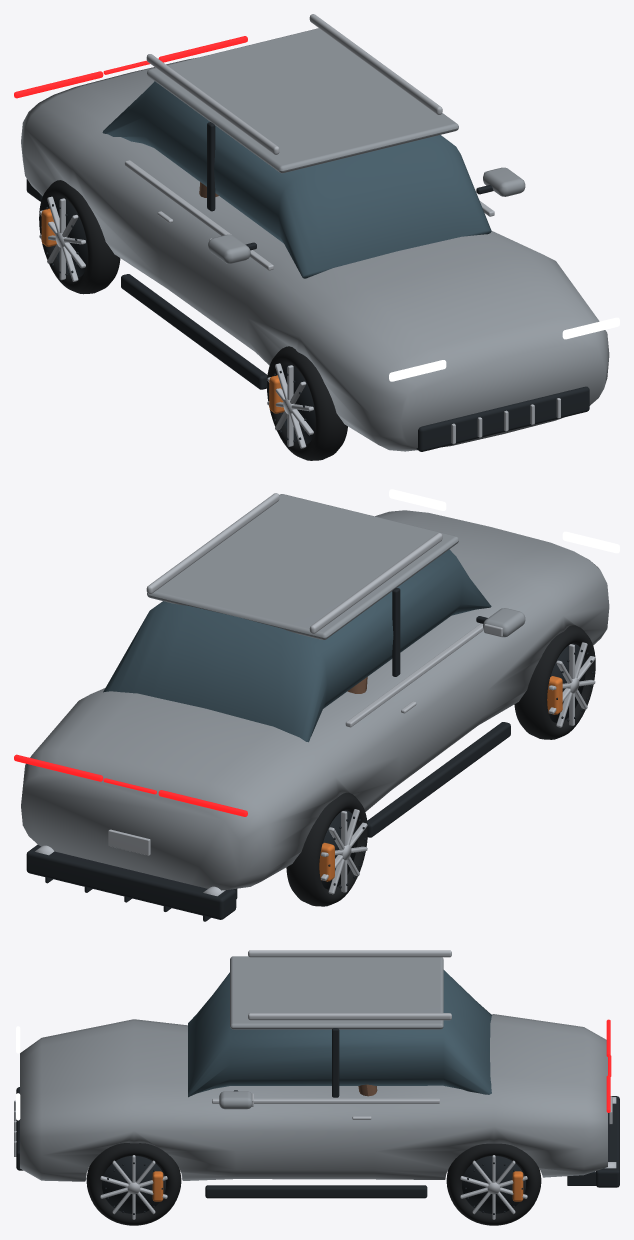
Rendered from traffic-suv.glb.
3 views of the same model, one above another, from view 1: azimuth 30°, elevation 25°; view 2: azimuth 150°, elevation 25°; view 3: azimuth 270°, elevation 25° (orthographic). The views are drawn at different scales.
Parts seen in each view (by area): view 1: Sculpted coachwork.002, Glazed cabin.002, Floating roof.002, Front lower intake.002, Performance tire.008, Performance tire.009, Side skirt.004, Roof rail, Roof rail.001, Window sill.004, Wheel barrel.008, Mirror housing.004 (+5 smaller); view 2: Sculpted coachwork.002, Glazed cabin.002, Floating roof.002, Rear diffuser.002, Performance tire.008, Performance tire.009, Side skirt.004, Roof rail, Roof rail.001, Window sill.004, B pillar.004, Rear license plate.002 (+6 smaller); view 3: Sculpted coachwork.002, Glazed cabin.002, Floating roof.002, Performance tire.010, Performance tire.011, Side skirt.005, Wheel barrel.010, Wheel barrel.011, Roof rail, Roof rail.001, Rear diffuser.002, Window sill.005 (+2 smaller).
Part boxes in pixels (x1,y1,x2,y2): Sculpted coachwork.002: (21, 58, 609, 451); Glazed cabin.002: (102, 81, 491, 278); Floating roof.002: (147, 28, 458, 173); Front lower intake.002: (416, 386, 589, 451); Performance tire.008: (267, 346, 347, 460); Performance tire.009: (39, 180, 120, 294); Side skirt.004: (121, 274, 267, 389); Roof rail: (146, 54, 279, 154); Roof rail.001: (309, 14, 442, 114); Window sill.004: (124, 160, 273, 270); Wheel barrel.008: (280, 364, 315, 443); Mirror housing.004: (208, 234, 250, 263); Sculpted coachwork.002: (21, 510, 609, 890); Glazed cabin.002: (103, 549, 491, 742); Floating roof.002: (147, 494, 458, 639); Rear diffuser.002: (26, 844, 236, 919); Performance tire.008: (514, 625, 595, 739); Performance tire.009: (286, 792, 367, 906); Side skirt.004: (367, 722, 510, 837); Roof rail: (309, 533, 442, 633); Roof rail.001: (146, 493, 279, 593); Window sill.004: (345, 623, 483, 727); B pillar.004: (392, 588, 400, 676); Rear license plate.002: (108, 829, 150, 855); Sculpted coachwork.002: (20, 1014, 607, 1181); Glazed cabin.002: (188, 970, 491, 1097); Floating roof.002: (230, 956, 443, 1029); Performance tire.010: (86, 1143, 181, 1225); Performance tire.011: (446, 1143, 541, 1225); Side skirt.005: (205, 1185, 427, 1198); Wheel barrel.010: (102, 1156, 165, 1213); Wheel barrel.011: (462, 1156, 525, 1213); Roof rail: (248, 950, 451, 957); Roof rail.001: (248, 1013, 451, 1020); Rear diffuser.002: (596, 1096, 619, 1187); Window sill.005: (212, 1098, 439, 1103).
Bounding box in the file's own units: 2.29 × 1.78 × 5.05.
